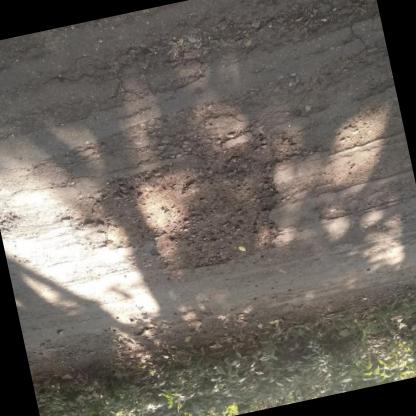pothole: (60, 122, 303, 296)
